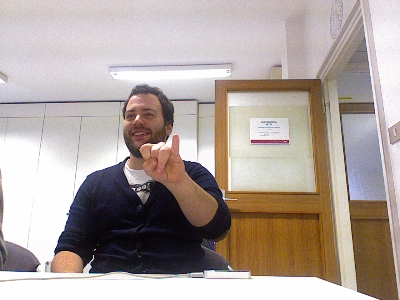小指: (138, 133, 186, 184)
